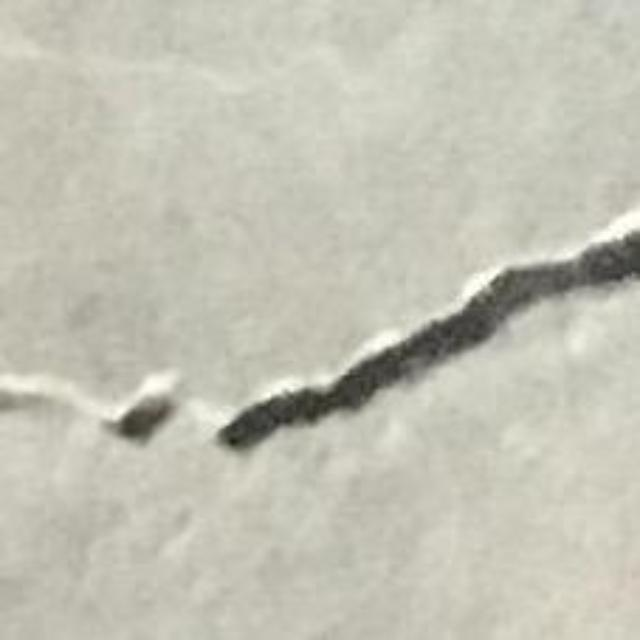crack: (218, 226, 639, 448)
